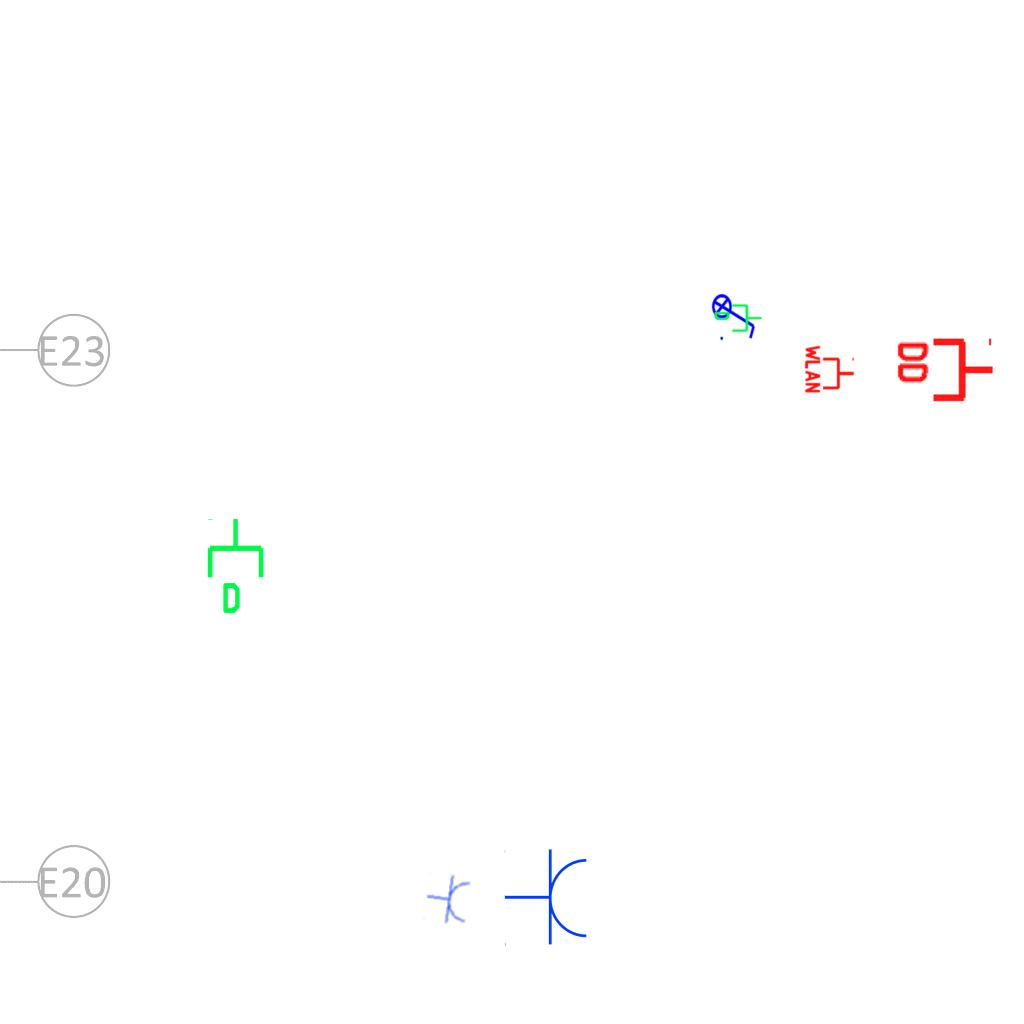Ausschalter_beleuchtet: (711, 287, 759, 343)
Datenanschluss_einfach: (203, 516, 272, 616), (713, 302, 763, 336)
Datenanschluss_zweifach: (893, 337, 996, 406)
Schukosteckdose_einfach: (504, 848, 591, 948), (423, 871, 473, 928)
WLAN: (804, 343, 856, 395)
